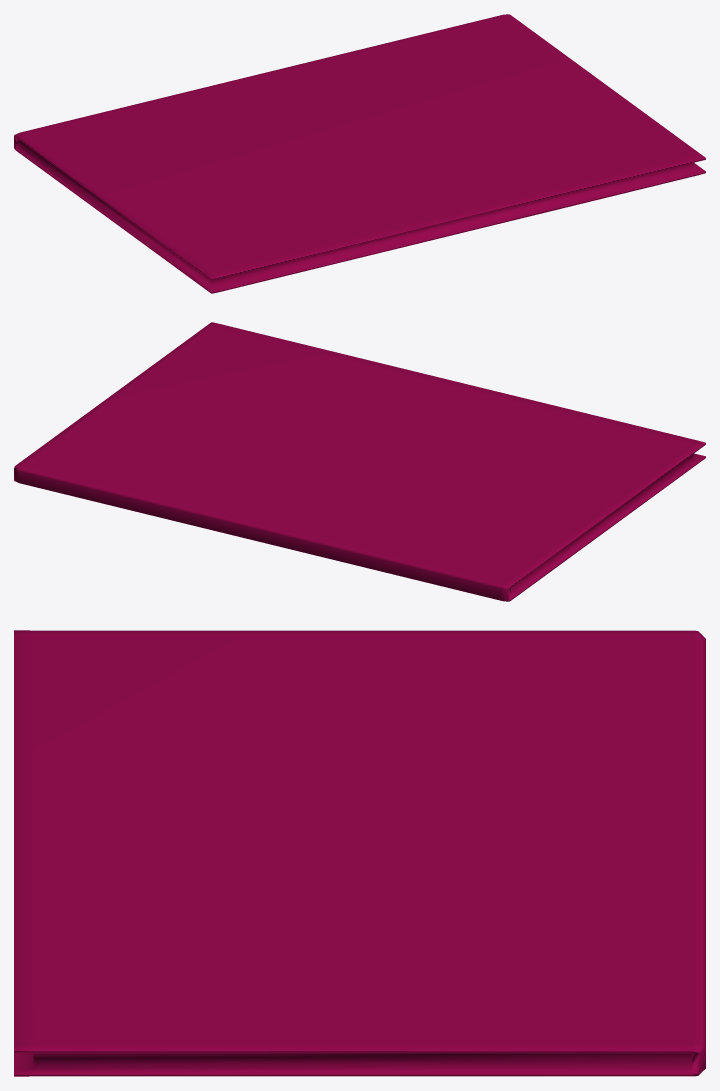
The model's file is Comic_02.fbx.
3 views of the same model, one above another, from view 1: azimuth 30°, elevation 25°; view 2: azimuth 150°, elevation 25°; view 3: azimuth 270°, elevation 25° (orthographic). The views are drawn at different scales.
Visible parts, largest first — view 1: Comic_02; view 2: Comic_02; view 3: Comic_02.
Boxes of the visible parts, x1,y1,x2,y2 form: Comic_02: (14,14,705,293); Comic_02: (14,322,705,601); Comic_02: (14,630,705,1076).
Size of the model in its own units: 231 by 7.28 by 161.
